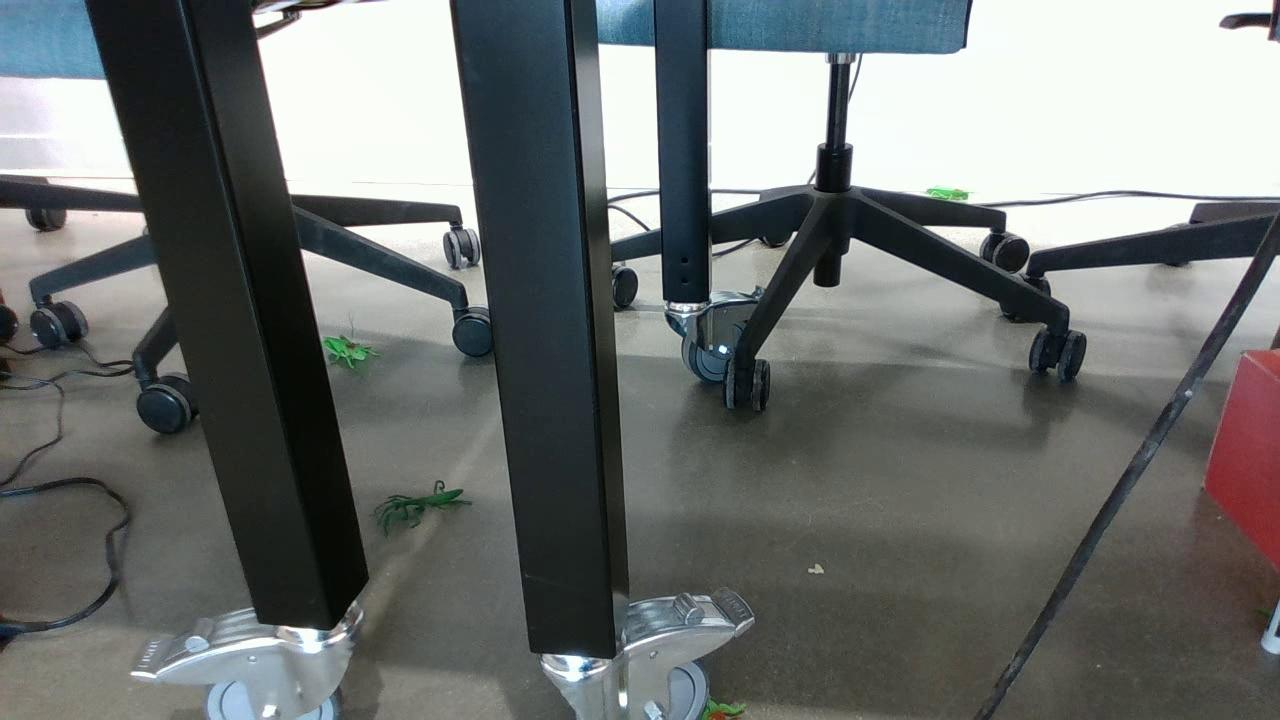grasshopper: (317, 329, 379, 370), (692, 690, 747, 720), (925, 188, 970, 204)
